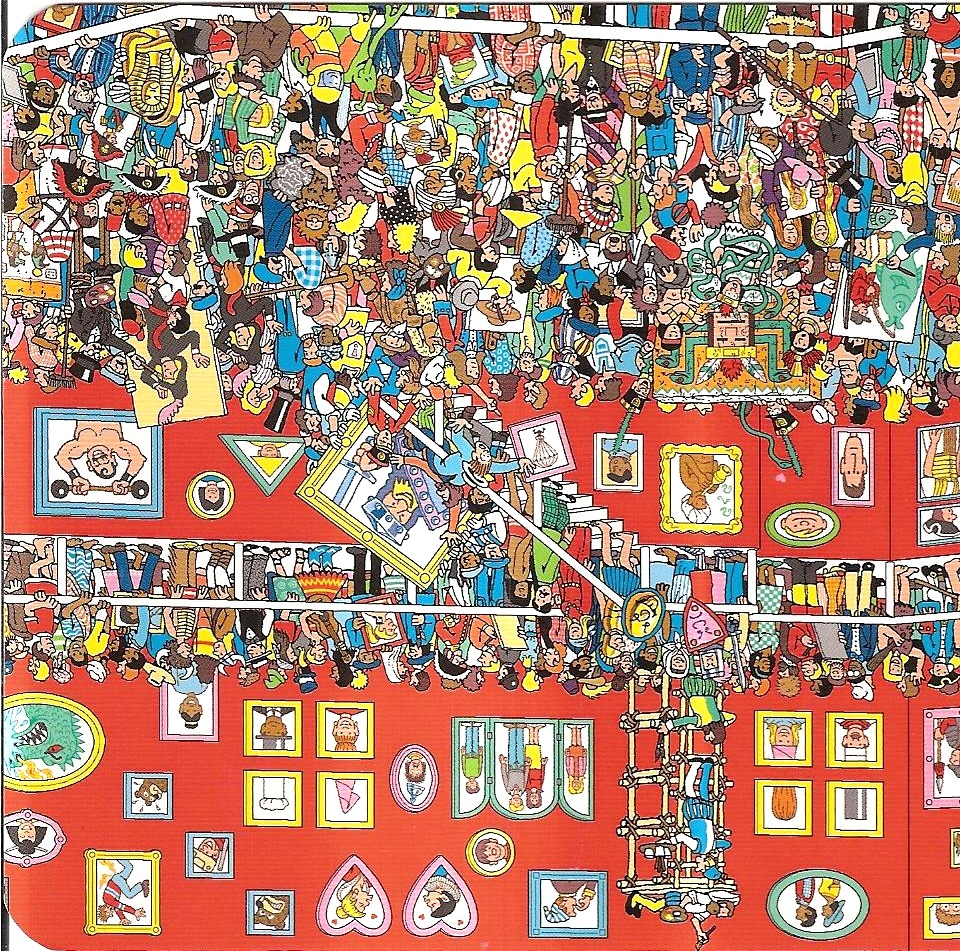waldo: (233, 182, 262, 214)
